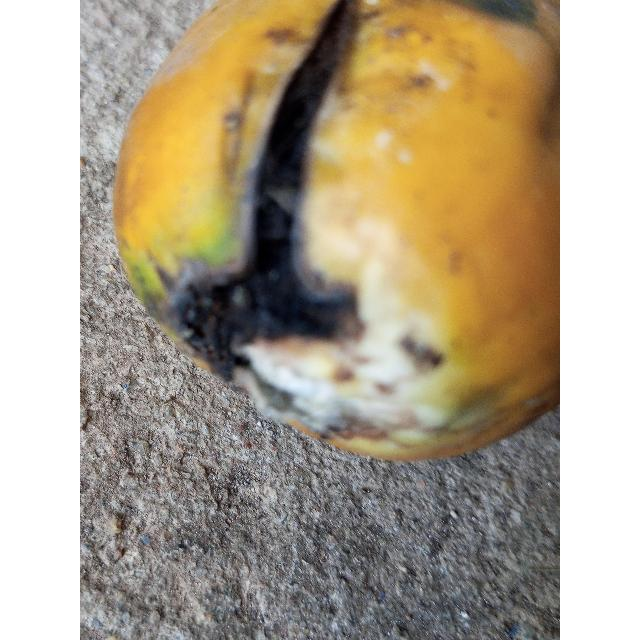damaged: (112, 0, 560, 465)
